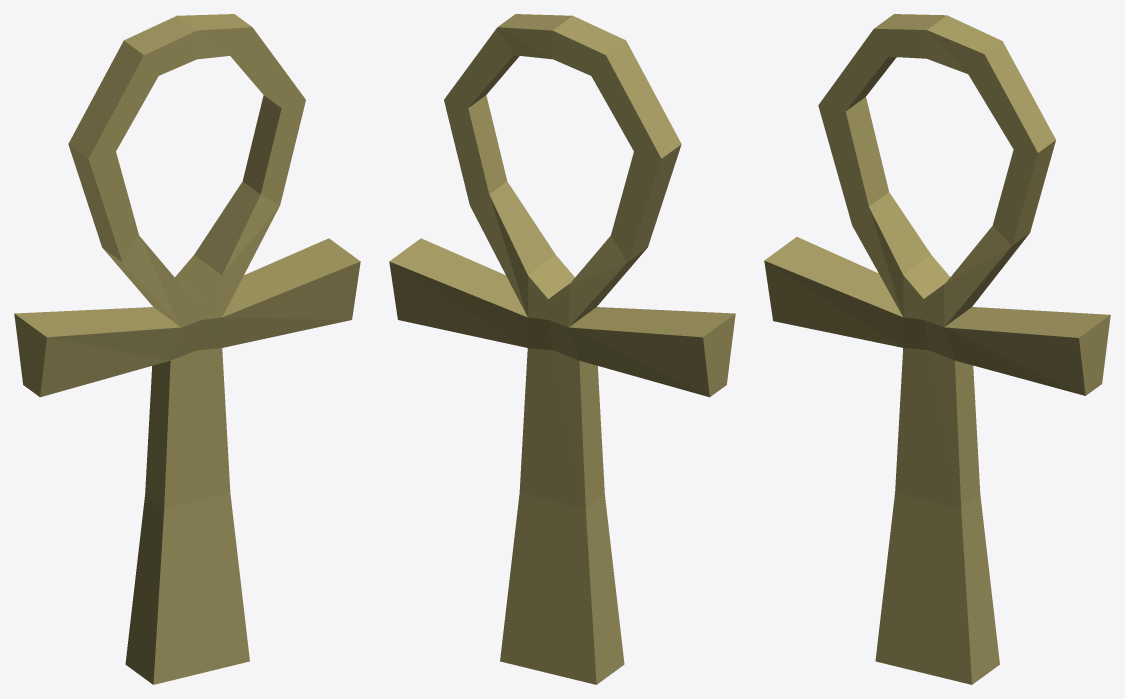
Rendered from Ankh.fbx.
3 renders of one model, left to right at view 1: azimuth 30°, elevation 25°; view 2: azimuth 150°, elevation 25°; view 3: azimuth 330°, elevation 25°, orthographic.
Visible parts, largest first — view 1: pCube1; view 2: pCube1; view 3: pCube1.
Boxes of the visible parts, x1=… form: pCube1: x1=14, y1=14, x2=360, y2=684; pCube1: x1=389, y1=14, x2=735, y2=684; pCube1: x1=764, y1=14, x2=1110, y2=684.
Bounding box in the file's own units: 1.51 × 2.94 × 0.2713.
